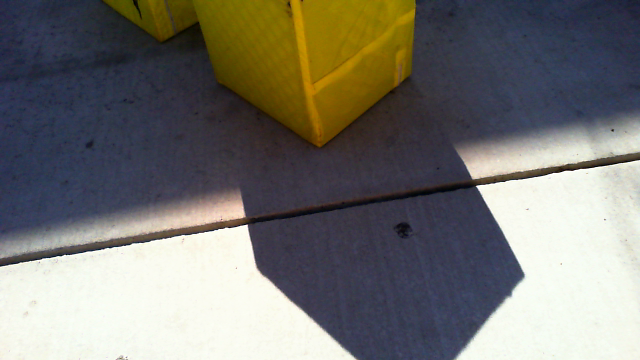cube: (192, 1, 415, 150)
